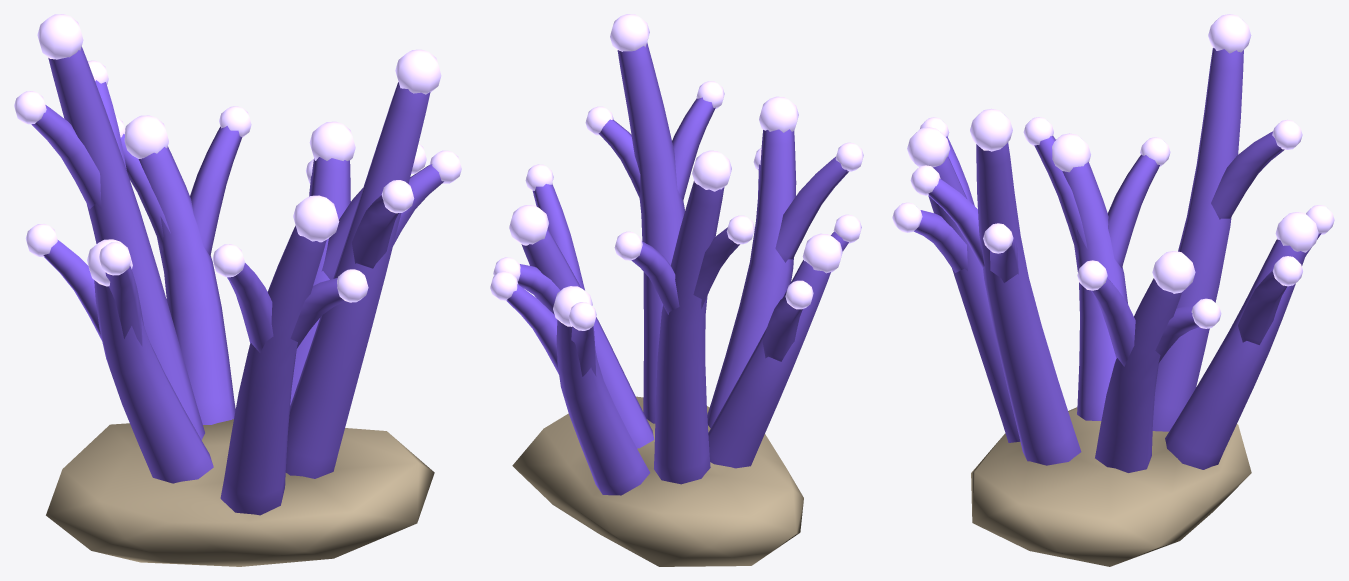
Rendered from coral3.glb.
3 renders of one model, left to right at view 1: azimuth 30°, elevation 25°; view 2: azimuth 150°, elevation 25°; view 3: azimuth 270°, elevation 25°, orthographic. The views are drawn at different scales.
Visible parts, largest first — view 1: Coral; view 2: Coral; view 3: Coral.
Boxes of the visible parts, left/top/right/bottom form: Coral: left=14, top=14, right=461, bottom=566; Coral: left=490, top=14, right=863, bottom=566; Coral: left=892, top=14, right=1334, bottom=566.
Bounding box in the file's own units: 1.49 × 2.02 × 1.74.
